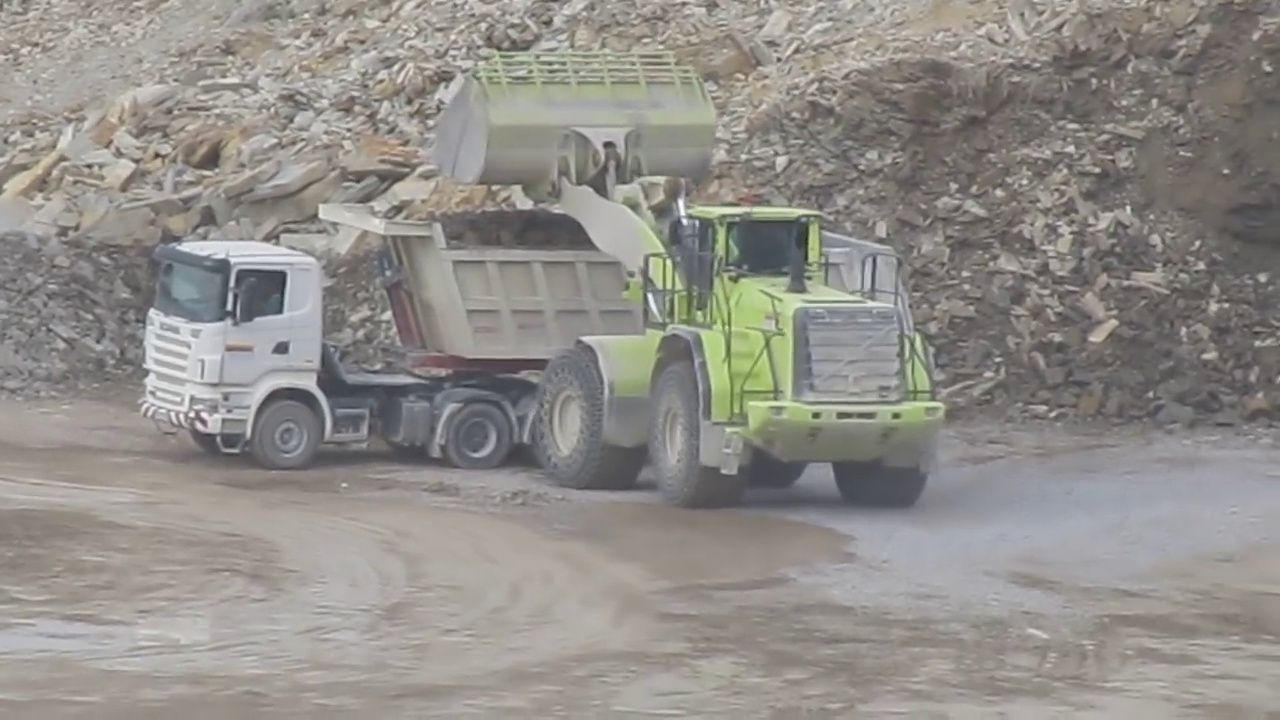truck: (136, 204, 728, 471)
wheel loader: (435, 39, 949, 511)
